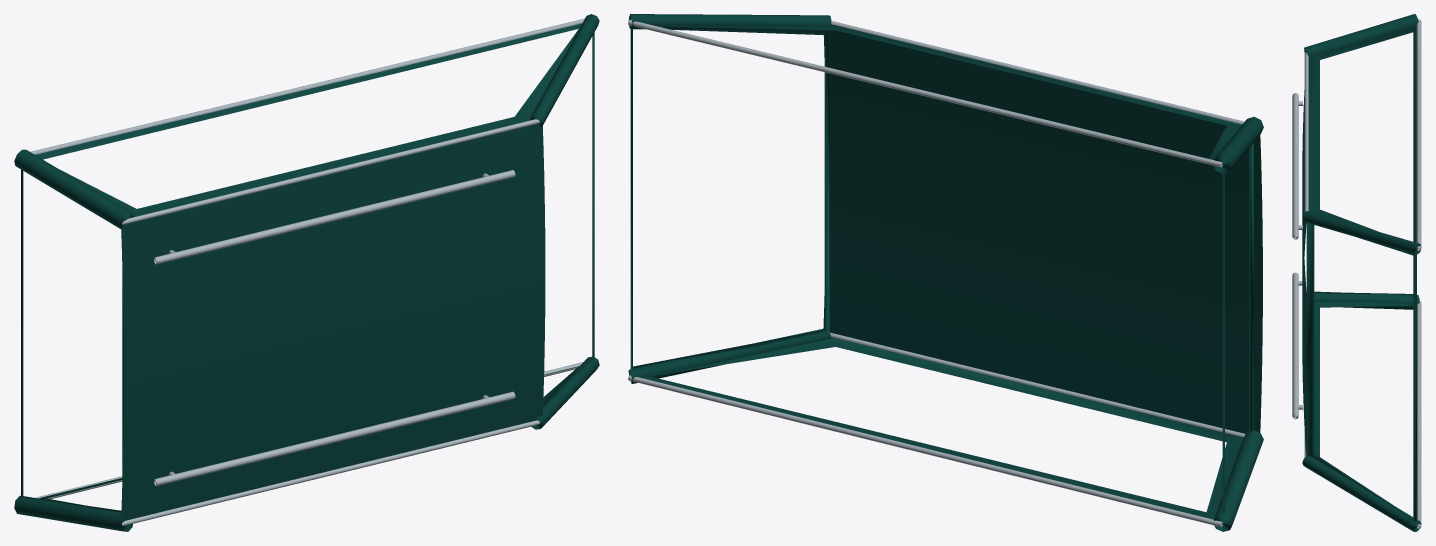
File: Car70Roof2.obj
The picture shows the model from 3 angles, left to right: view 1: azimuth 30°, elevation 25°; view 2: azimuth 150°, elevation 25°; view 3: azimuth 270°, elevation 25°; orthographic projection. The views are drawn at different scales.
Parts seen in each view (by area): view 1: Car70Roof2; view 2: Car70Roof2; view 3: Car70Roof2.
Boxes of the visible parts, x1=… form: Car70Roof2: x1=14, y1=14, x2=599, y2=531; Car70Roof2: x1=628, y1=14, x2=1263, y2=531; Car70Roof2: x1=1292, y1=14, x2=1421, y2=531.
Size of the model in its own units: 292 by 174 by 69.11.
